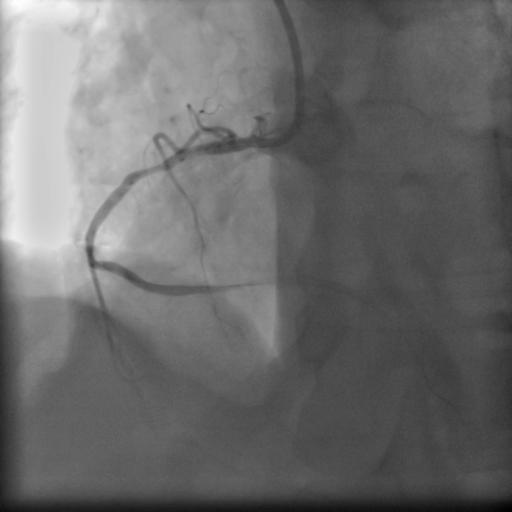Stenosis: (130, 157, 169, 179)
